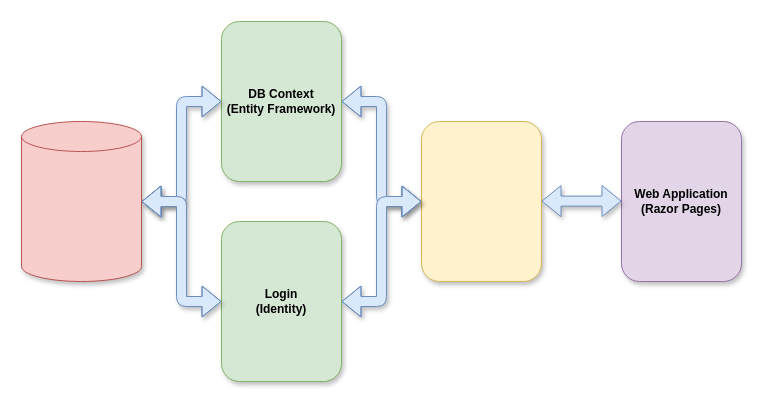
This 765x406 diagram has some shape labels left out. Here are the shapes that lost their labels. From the top down, the centre of each, then its label:
At point (82, 202): "Database (SQL)".
At point (482, 202): "Services (Repository)".
